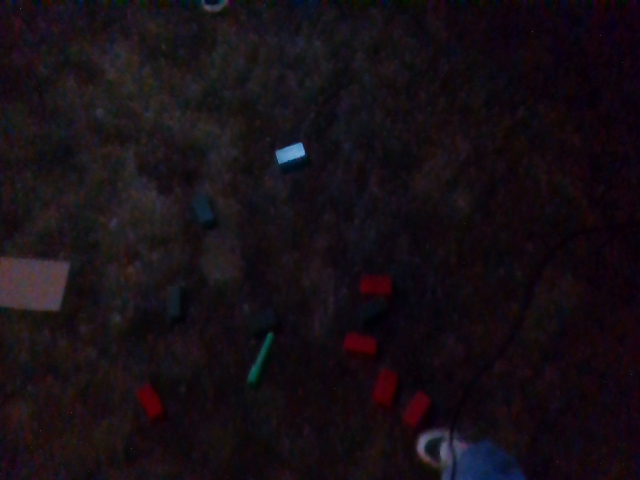Probe: (241, 321, 281, 387)
